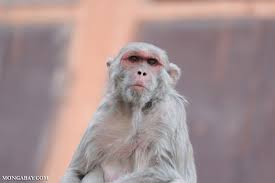monkey: (56, 21, 225, 183)
